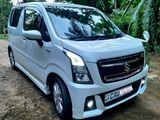car: (7, 2, 149, 120)
